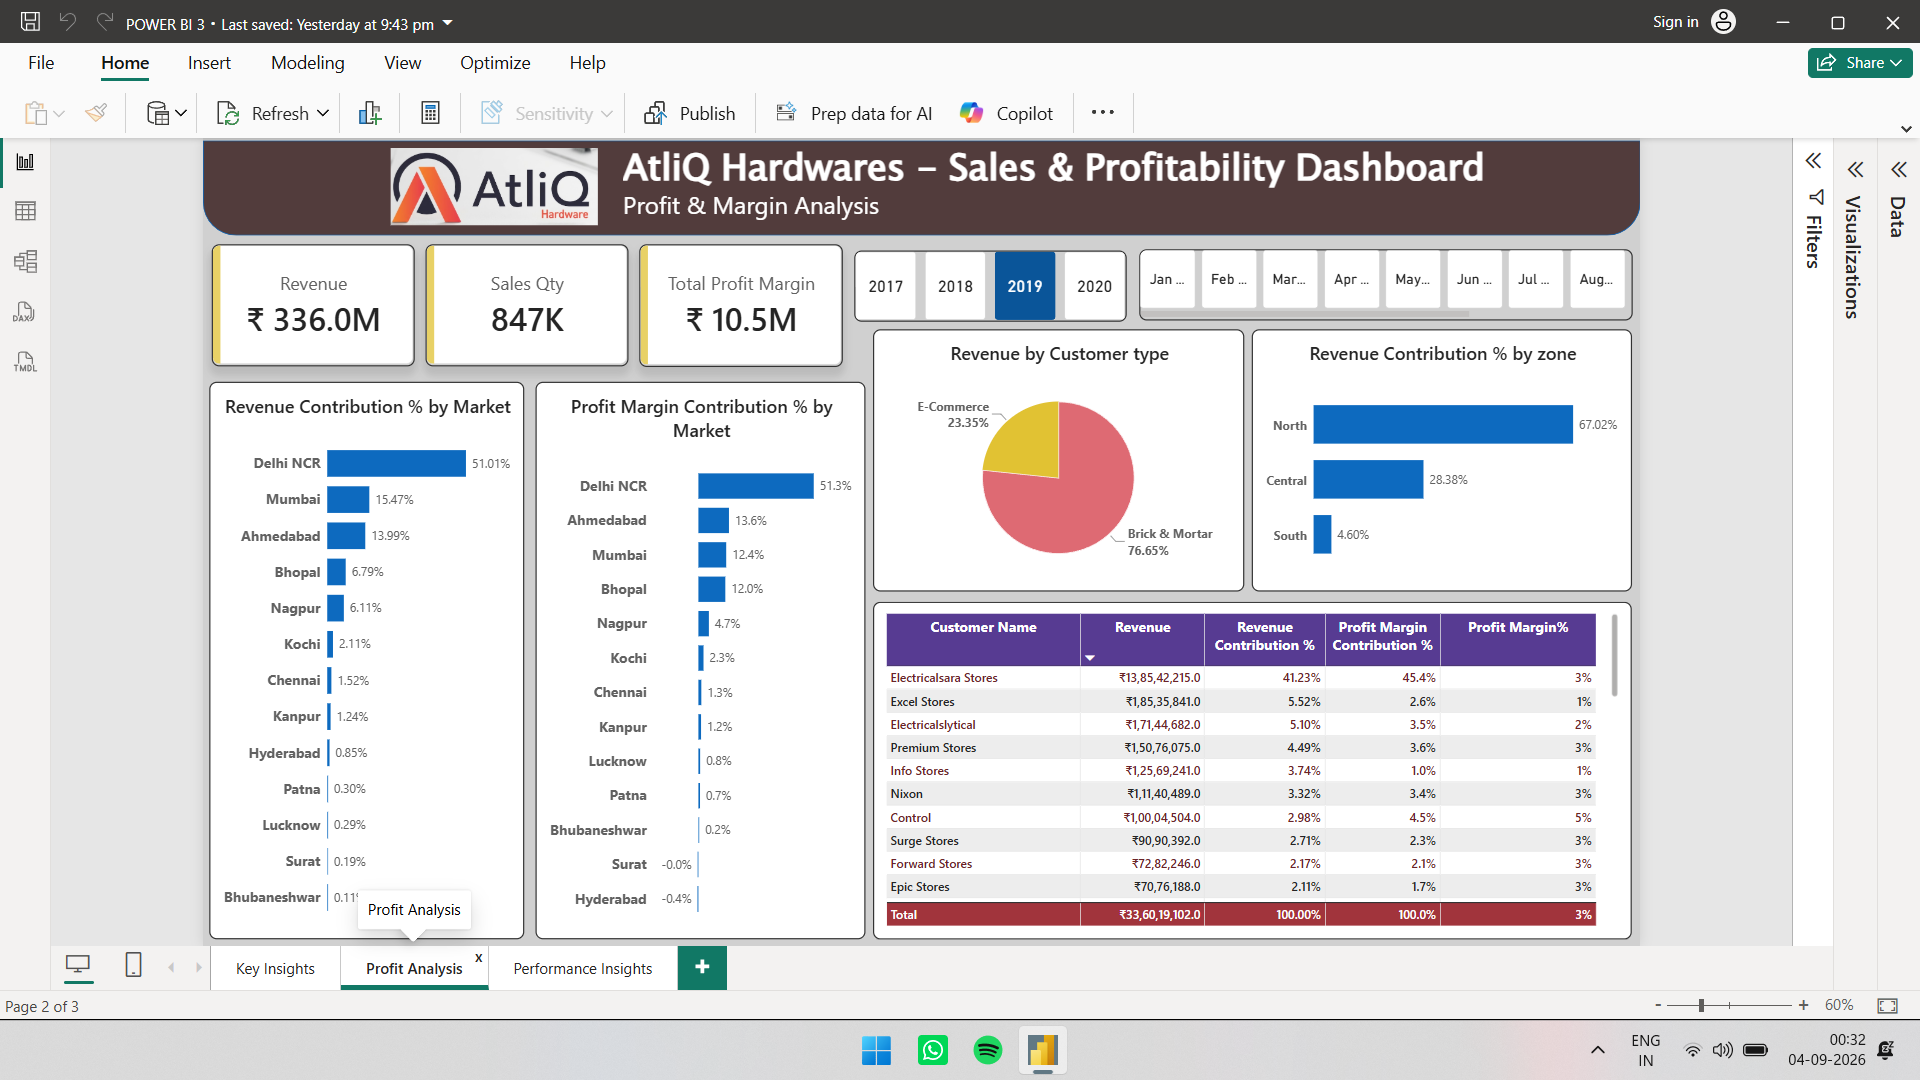

Layout of this report page (visuals, bound fields, positions):
{"tool":"powerbi","page":{"name":"Profit Analysis","canvas":[1920,1080],"ordinal":1},"visuals":[{"type":"advancedSlicerVisual","fields":{"Values":["sales date.cy_date"]},"box":[1250.3,148.9,659.6,95.2],"z":0},{"type":"barChart","title":"Profit Margin Contribution % by Market","fields":{"Category":["sales markets.markets_name"],"Y":["Basic Measures.Profit Margin Contribution %"]},"box":[444.2,325.6,440.8,744.7],"z":1000},{"type":"barChart","title":"Revenue Contribution % by Market","fields":{"Y":["Basic Measures.Revenue Contribution %"],"Category":["sales markets.markets_name"]},"box":[8.3,325.6,420.8,744.7],"z":2000},{"type":"tableEx","fields":{"Values":["sales customers.custmer_name","Basic Measures.Revenue","Basic Measures.Revenue Contribution %","Basic Measures.Profit Margin Contribution %","Basic Measures.Profit Margin%"]},"box":[895,619.5,1013.5,450.8],"z":3000},{"type":"pieChart","title":"Revenue by Customer type","fields":{"Category":["sales customers.customer_type"],"Y":["Basic Measures.Revenue"]},"box":[895,255.5,495.9,350.7],"z":4000},{"type":"barChart","fields":{"Y":["Basic Measures.Revenue Contribution %"],"Category":["sales markets.zone"]},"box":[1400.9,255.5,507.6,350.7],"z":5000},{"type":"shape","box":[0,3.3,1920.2,126.9],"z":6000},{"type":"advancedSlicerVisual","fields":{"Values":["sales date.year"]},"box":[869.9,150.3,364,95.2],"z":7000},{"type":"cardVisual","fields":{"Data":["Basic Measures.Total Profit Margin"]},"box":[582.4,142.3,272.2,163.6],"z":8000},{"type":"cardVisual","title":"Revenue","fields":{"Data":["Basic Measures.Revenue"]},"box":[11.7,141.9,271.4,162.9],"z":9000},{"type":"cardVisual","title":"Sales Qty.","fields":{"Data":["Basic Measures.Sales Qty"]},"box":[297.2,141.9,271.4,162.9],"z":10000},{"type":"image","box":[216.4,13.8,343.8,103.2],"z":10503},{"type":"textbox","box":[560.3,2.9,1165.4,81.4],"z":11003},{"type":"textbox","box":[560.3,66.2,1134.7,52.5],"z":11503}]}

Visuals, with their boxes on the page's 1920x1080 design canvas (x1, y1, x2, y2). These are canvas units, not pixel positions in the 1920x1080 screenshot, which may show the page scaled, cropped or inside an application window:
advancedSlicerVisual - sales date.cy_date: {"x1": 1250, "y1": 149, "x2": 1910, "y2": 244}
"Profit Margin Contribution % by Market" barChart: {"x1": 444, "y1": 326, "x2": 885, "y2": 1070}
"Revenue Contribution % by Market" barChart: {"x1": 8, "y1": 326, "x2": 429, "y2": 1070}
tableEx - sales customers.custmer_name x Basic Measures.Revenue: {"x1": 895, "y1": 620, "x2": 1908, "y2": 1070}
"Revenue by Customer type" pieChart: {"x1": 895, "y1": 256, "x2": 1391, "y2": 606}
barChart - Basic Measures.Revenue Contribution % x sales markets.zone: {"x1": 1401, "y1": 256, "x2": 1908, "y2": 606}
shape: {"x1": 0, "y1": 3, "x2": 1920, "y2": 130}
advancedSlicerVisual - sales date.year: {"x1": 870, "y1": 150, "x2": 1234, "y2": 246}
cardVisual - Basic Measures.Total Profit Margin: {"x1": 582, "y1": 142, "x2": 855, "y2": 306}
"Revenue" cardVisual: {"x1": 12, "y1": 142, "x2": 283, "y2": 305}
"Sales Qty." cardVisual: {"x1": 297, "y1": 142, "x2": 569, "y2": 305}
image: {"x1": 216, "y1": 14, "x2": 560, "y2": 117}
textbox: {"x1": 560, "y1": 3, "x2": 1726, "y2": 84}
textbox: {"x1": 560, "y1": 66, "x2": 1695, "y2": 119}
